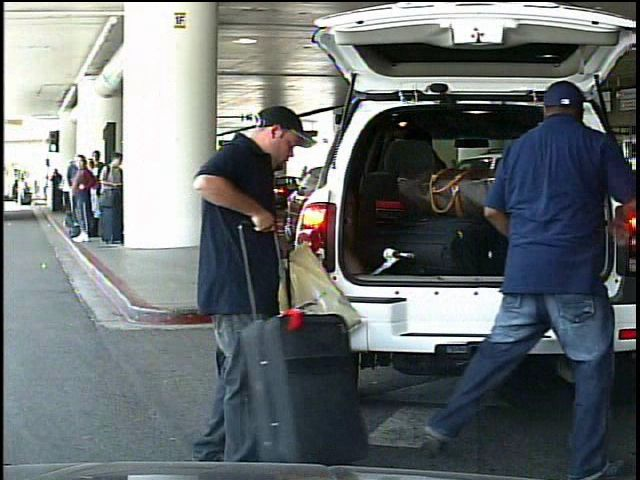person: (434, 77, 624, 479), (162, 95, 304, 463), (17, 175, 28, 206)
